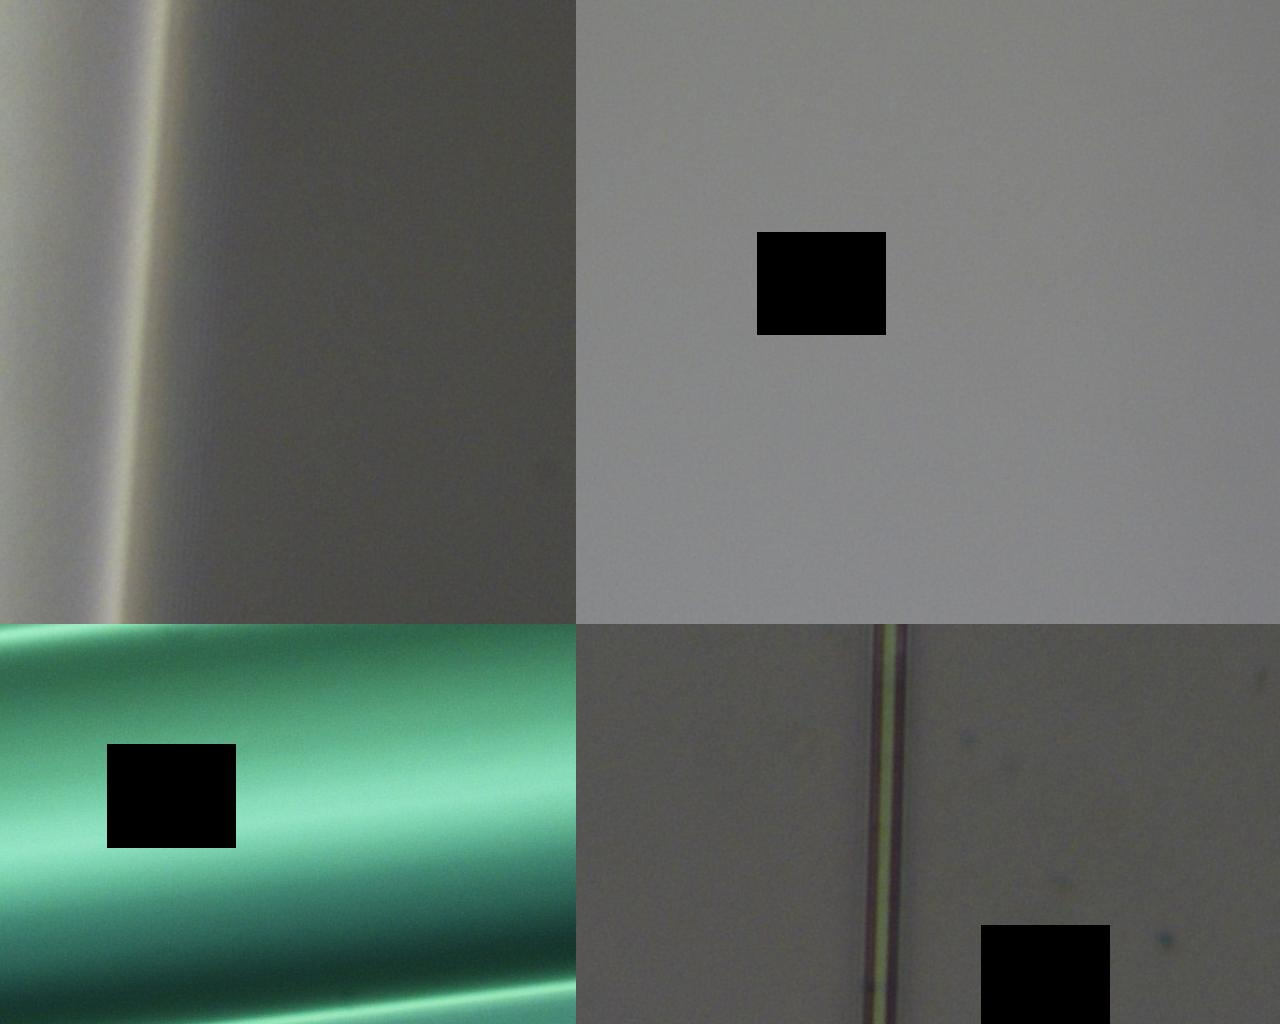fiber: (523, 189, 1280, 421), (930, 440, 1280, 495)
